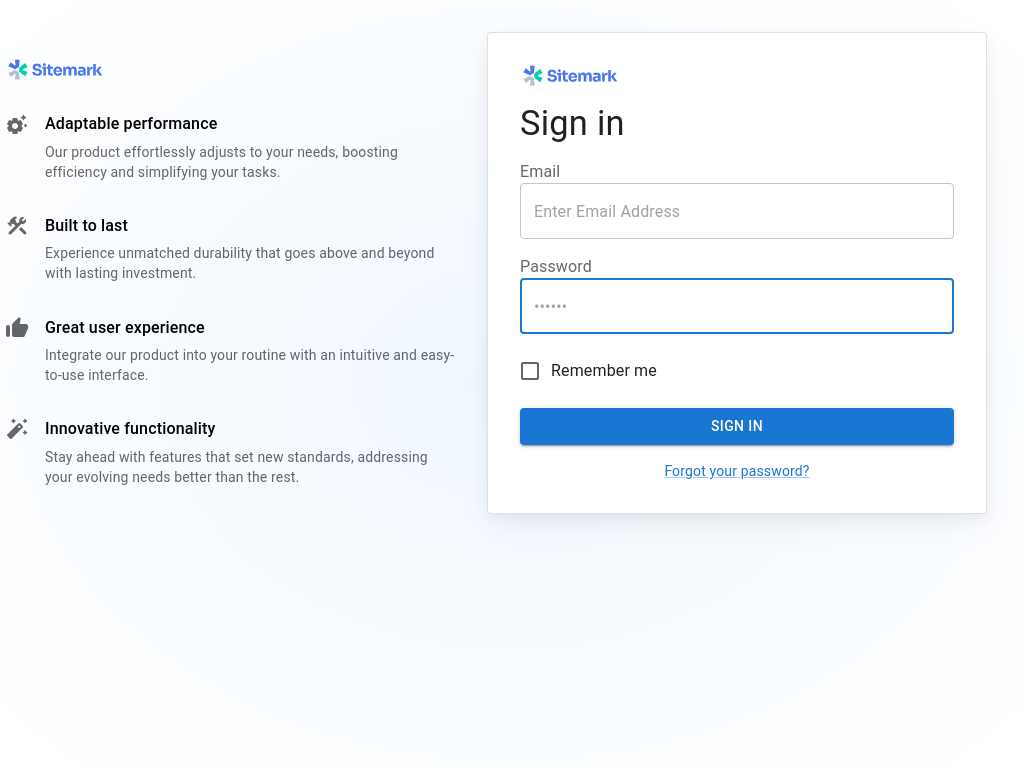
it: User Login › displays an invalid password message if the user does not provide a valid password
Expected: the element with test id "signin-card" is shown, x1=487 y1=32 x2=987 y2=514
Type "test" into the password field with placeholder "••••••" at x=737, y=306, box x1=520 y1=278 x2=954 y2=334
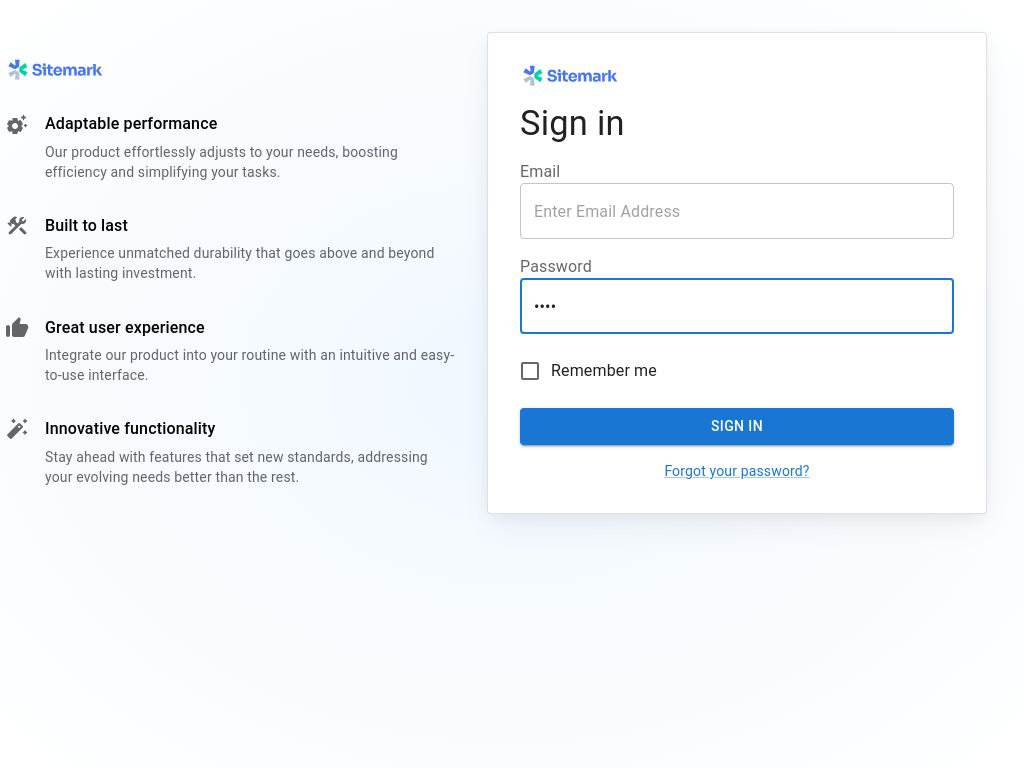
Click the button with test id "signin-button" at x=737, y=427, box x1=520 y1=408 x2=954 y2=445
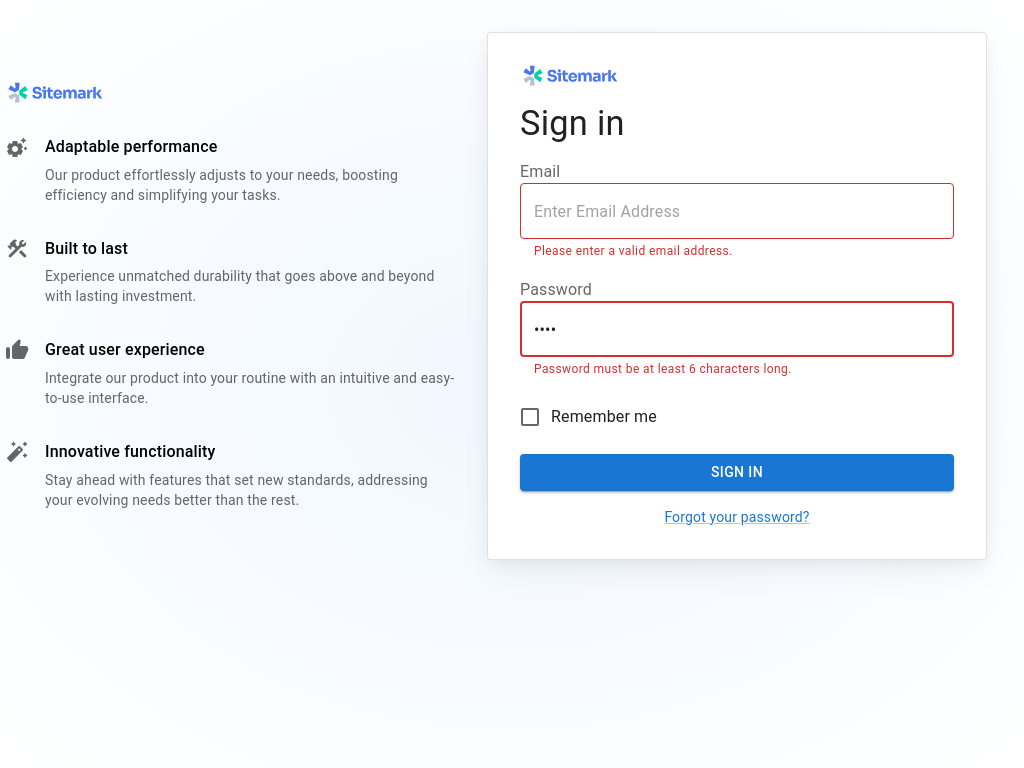
Now the text "Password must be at least 6 characters long." is shown, box x1=534 y1=362 x2=792 y2=376
